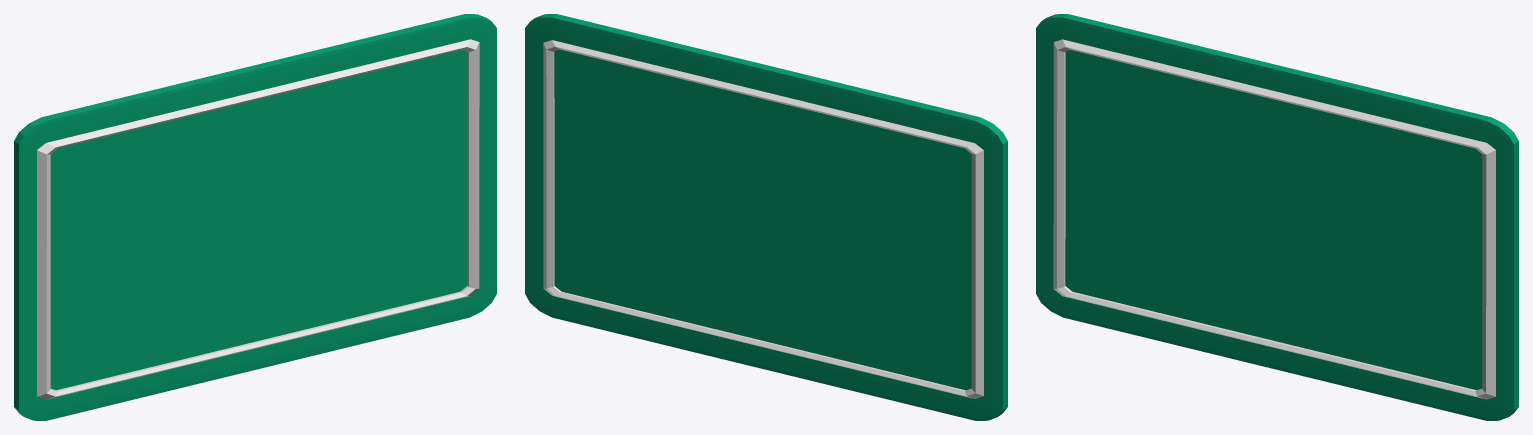
Rendered from signa.gltf.
The picture shows the model from 3 angles, left to right: view 1: azimuth 30°, elevation 25°; view 2: azimuth 150°, elevation 25°; view 3: azimuth 330°, elevation 25°; orthographic projection.
Parts seen in each view (by area): view 1: Cube.004, Torus.001; view 2: Cube.004, Torus.001; view 3: Cube.004, Torus.001.
Part boxes in pixels (x1,y1,x2,y2): Cube.004: (14, 14, 496, 420); Torus.001: (37, 39, 479, 399); Cube.004: (525, 14, 1007, 420); Torus.001: (543, 40, 983, 398); Cube.004: (1036, 14, 1518, 420); Torus.001: (1053, 39, 1495, 399).
Size of the model in its own units: 4.99 by 2.99 by 0.204.
